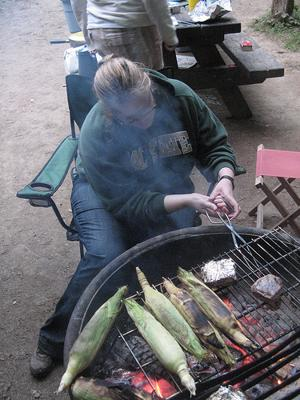person: (30, 58, 242, 385)
